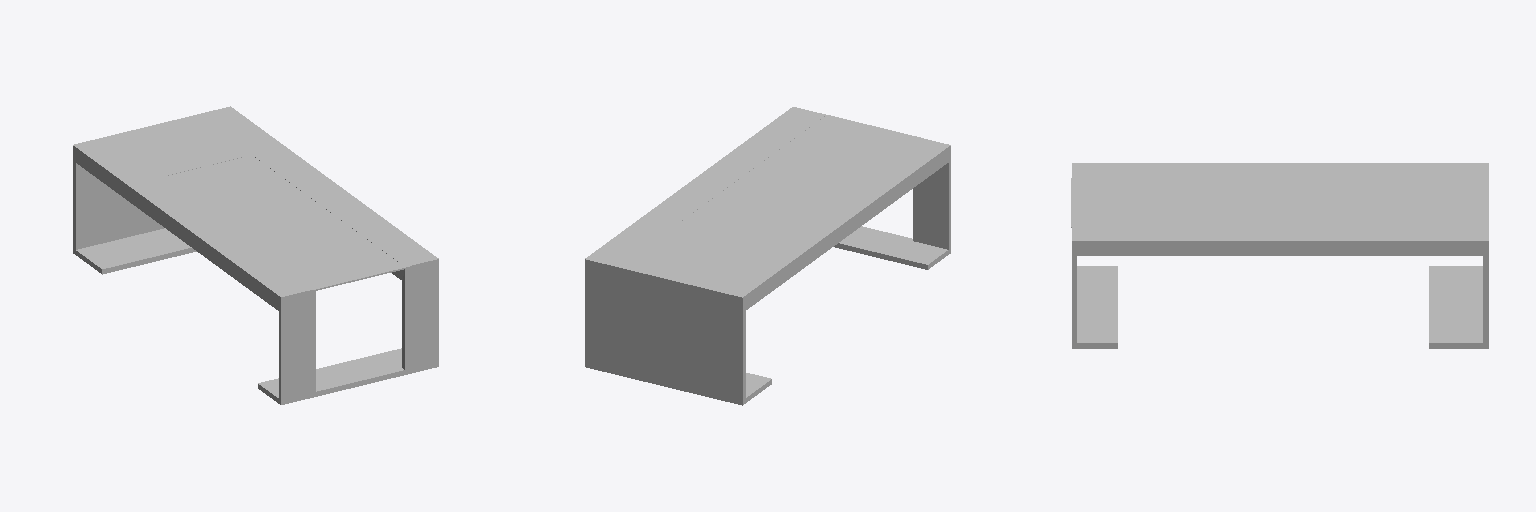
The model's file is Modern Table.obj.
3 views of the same model, side by side, from view 1: azimuth 30°, elevation 25°; view 2: azimuth 150°, elevation 25°; view 3: azimuth 270°, elevation 25° (orthographic).
Visible parts, largest first — view 1: pCube1, pPlane1; view 2: pCube1, pPlane1; view 3: pCube1, pPlane1.
Boxes of the visible parts, x1=… form: pCube1: x1=73, y1=106, x2=438, y2=404; pPlane1: x1=164, y1=155, x2=410, y2=291; pCube1: x1=585, y1=107, x2=950, y2=405; pPlane1: x1=674, y1=115, x2=920, y2=248; pCube1: x1=1072, y1=163, x2=1488, y2=348; pPlane1: x1=1071, y1=178, x2=1377, y2=227.
Size of the model in its own units: 5.03 by 3.28 by 11.5.